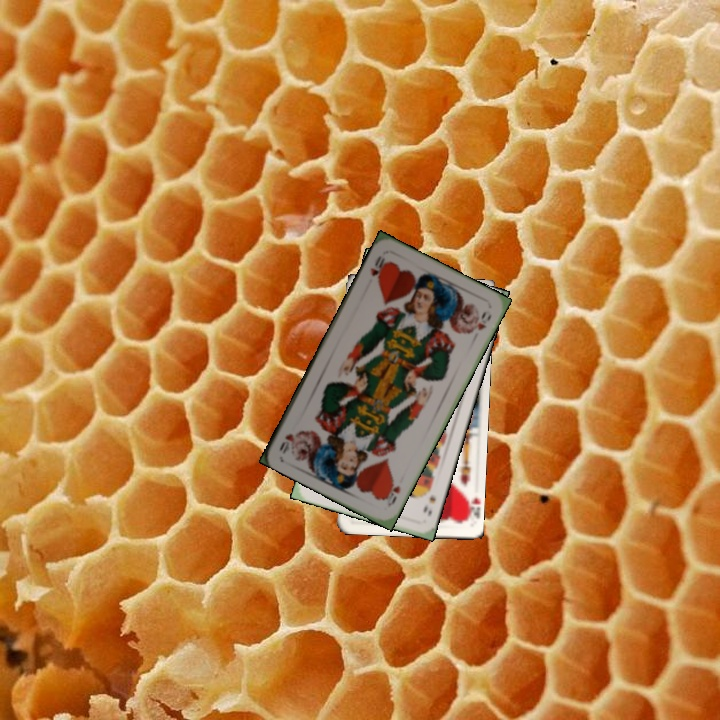HK: (460, 490, 480, 523)
HO: (380, 475, 403, 510), (366, 252, 389, 281)
S9: (419, 490, 438, 519)
